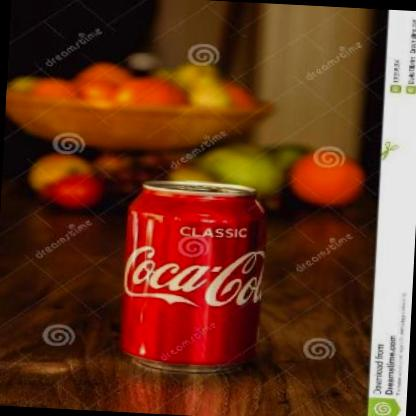alumunium_can: (117, 178, 271, 376)
